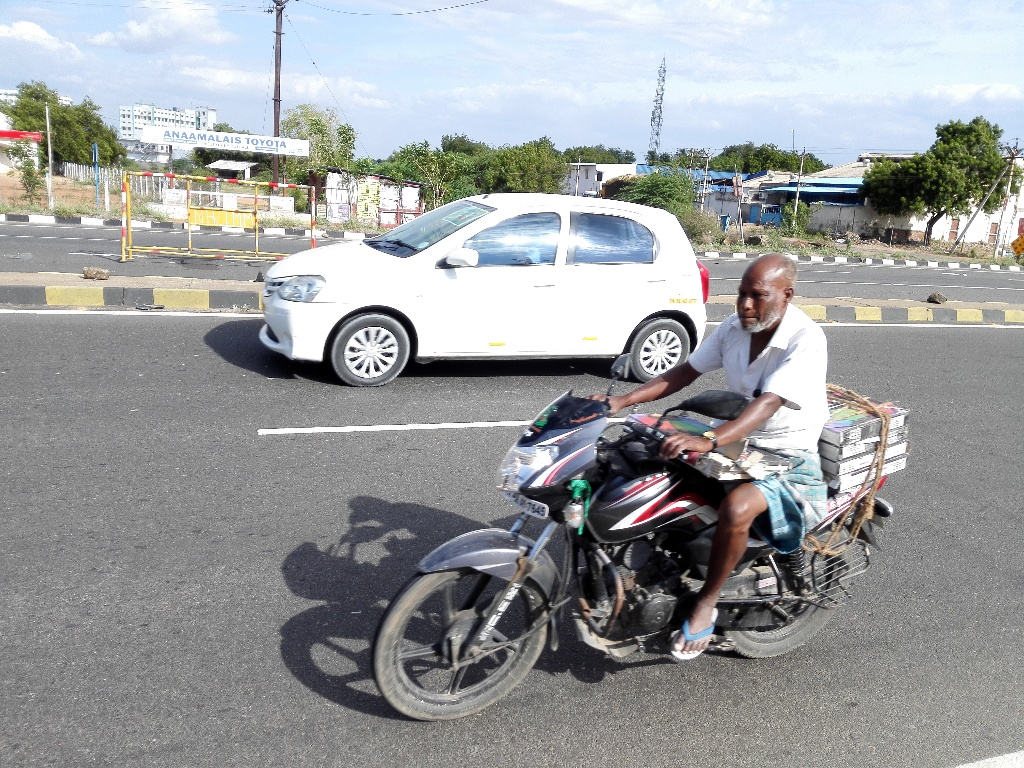biker: (352, 213, 935, 742)
nohelmet: (727, 246, 810, 345)
